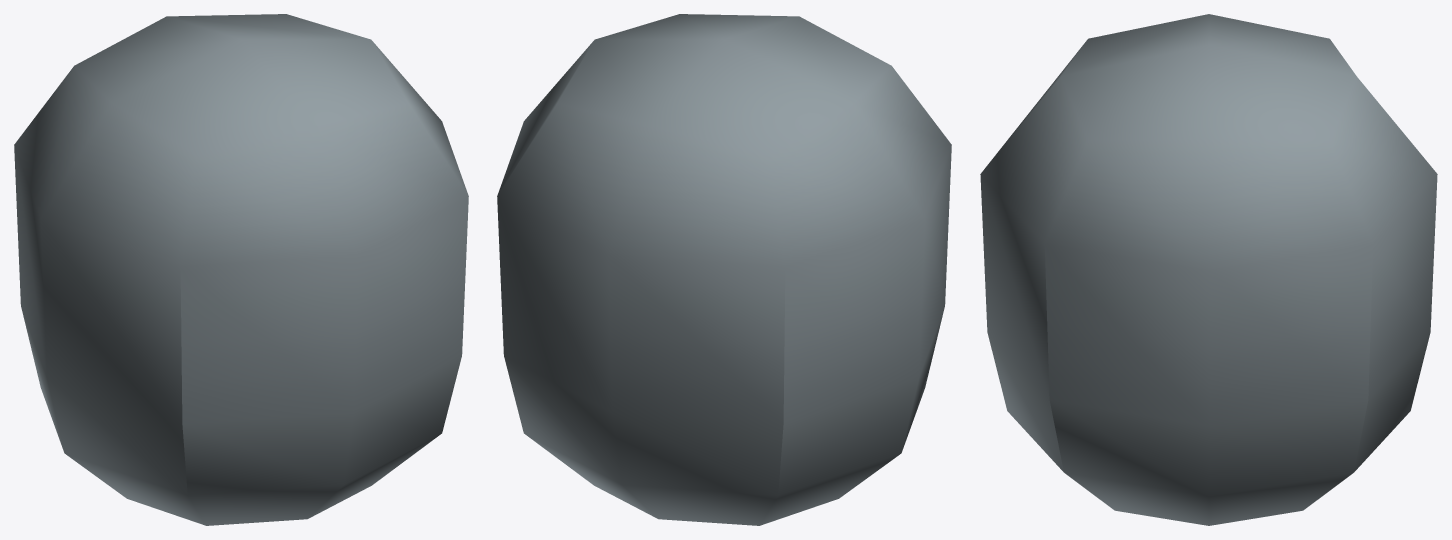
Rendered from Rock_6_A_Color1.gltf.
The picture shows the model from 3 angles, left to right: view 1: azimuth 30°, elevation 25°; view 2: azimuth 150°, elevation 25°; view 3: azimuth 270°, elevation 25°; orthographic projection.
Parts seen in each view (by area): view 1: Rock_6_A_Color1; view 2: Rock_6_A_Color1; view 3: Rock_6_A_Color1.
Part boxes in pixels (x1,y1,x2,y2): Rock_6_A_Color1: [14, 14, 468, 525]; Rock_6_A_Color1: [497, 14, 951, 525]; Rock_6_A_Color1: [980, 14, 1437, 525].
Size of the model in its own units: 0.23 by 0.2449 by 0.23.
Materials: 1 (1 with a texture image).
